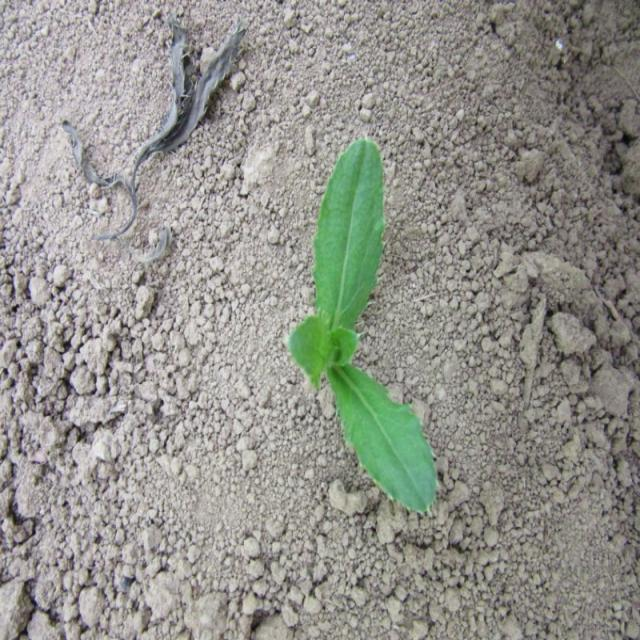field_thistle: (284, 129, 446, 518)
